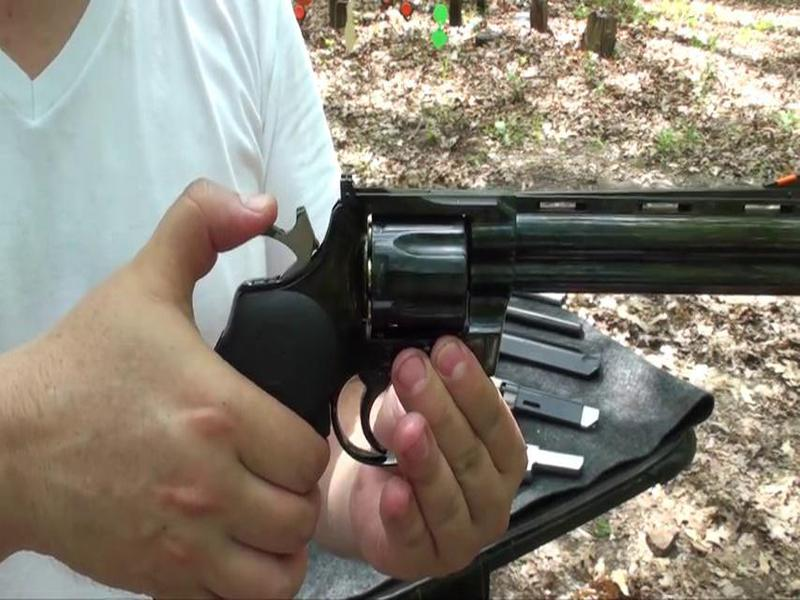Revolver: (227, 168, 800, 413)
